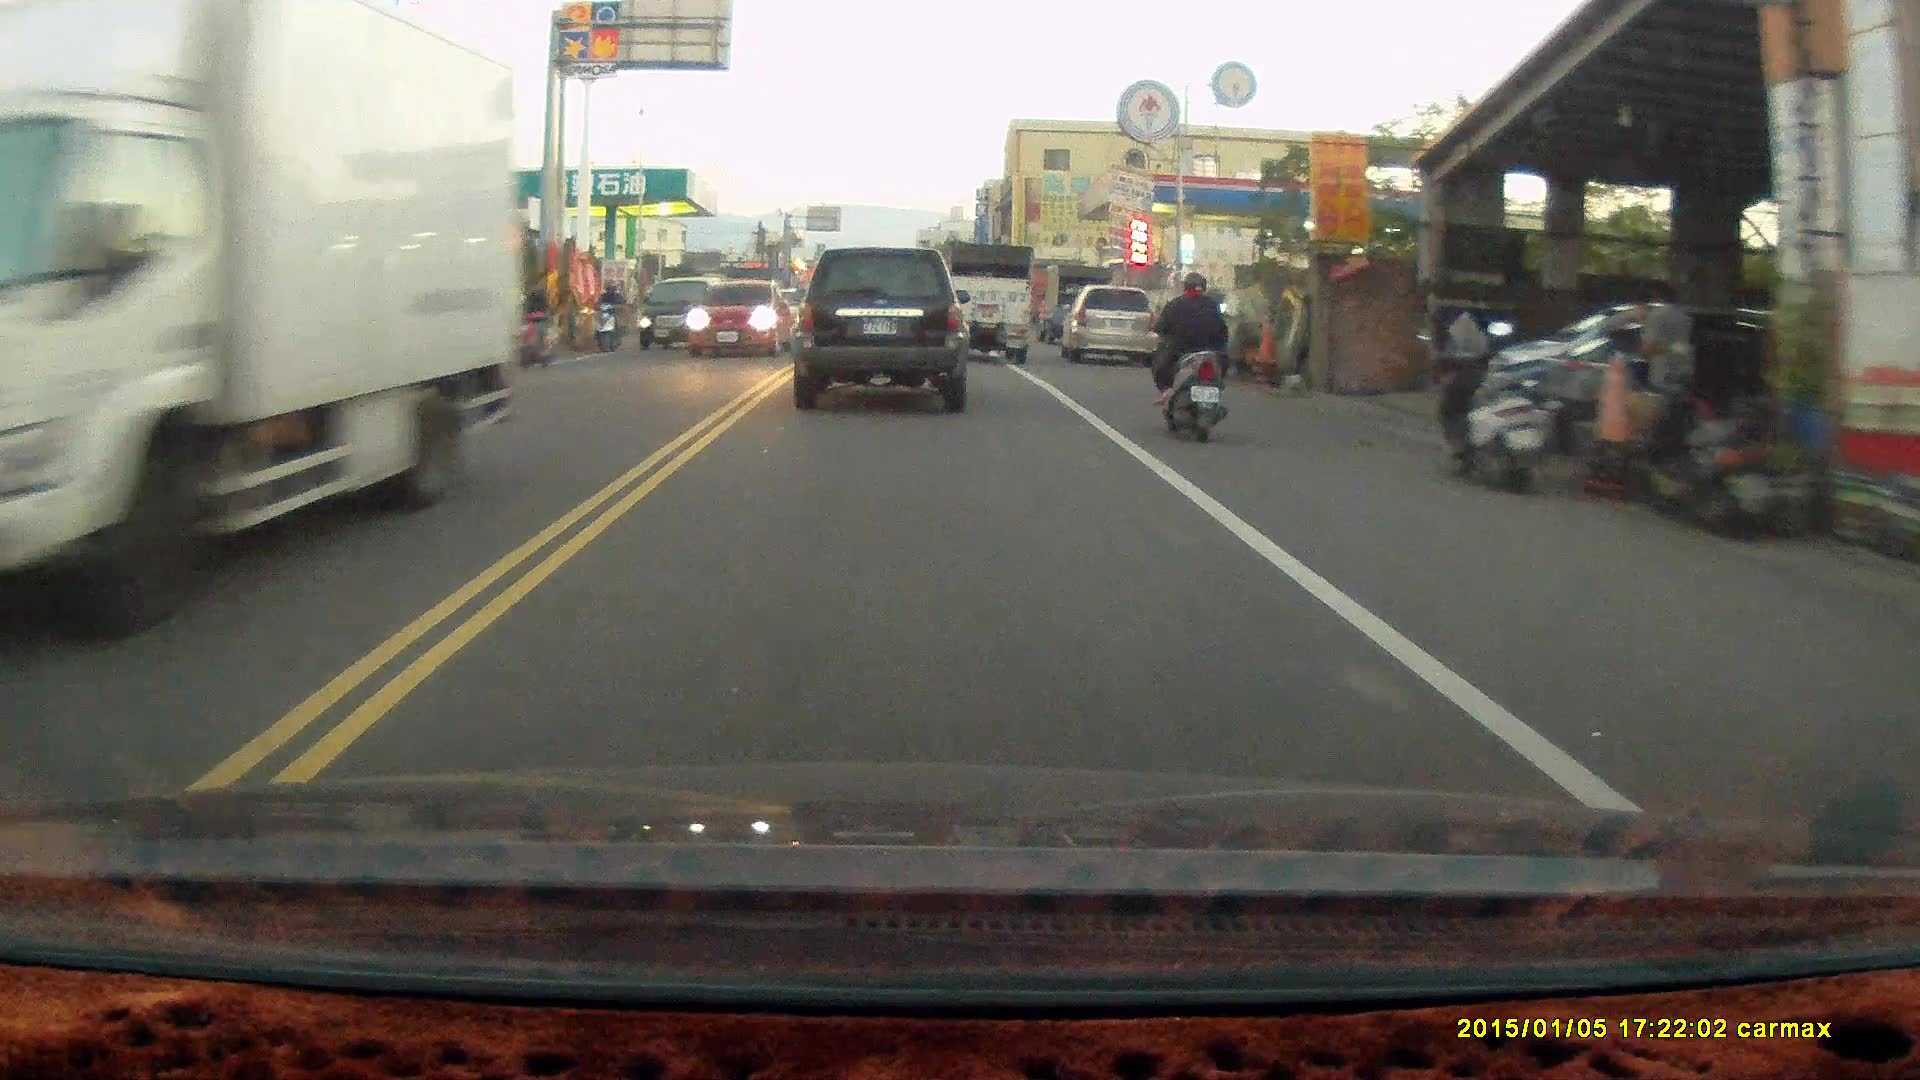pedestrian: (1642, 282, 1695, 431)
rider: (1145, 268, 1236, 443), (497, 285, 562, 371), (591, 278, 625, 349)
vehicle: (1, 31, 525, 615), (787, 244, 971, 413), (941, 238, 1034, 362), (684, 283, 798, 359), (1065, 284, 1156, 367), (638, 276, 730, 352)
